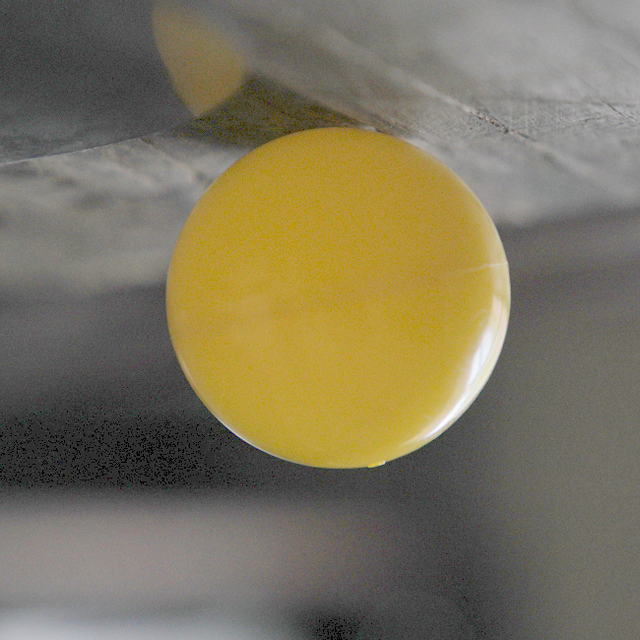Ball: (171, 129, 511, 470)
